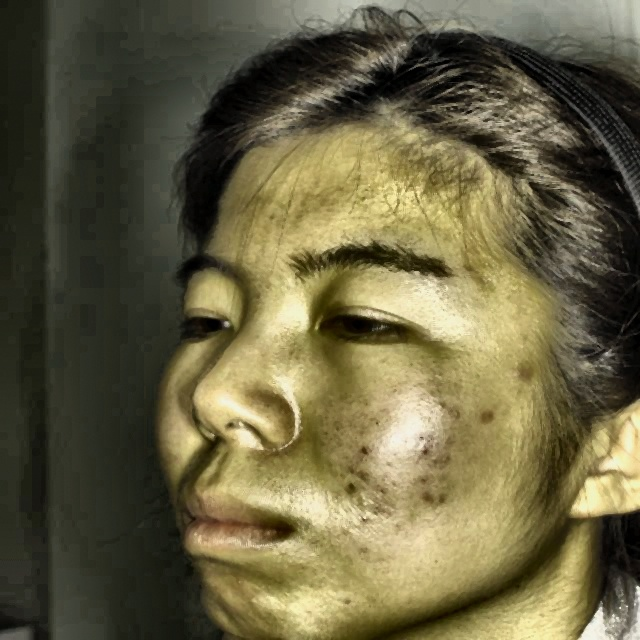comedone: (502, 353, 562, 401), (419, 479, 469, 523), (468, 398, 501, 442)
